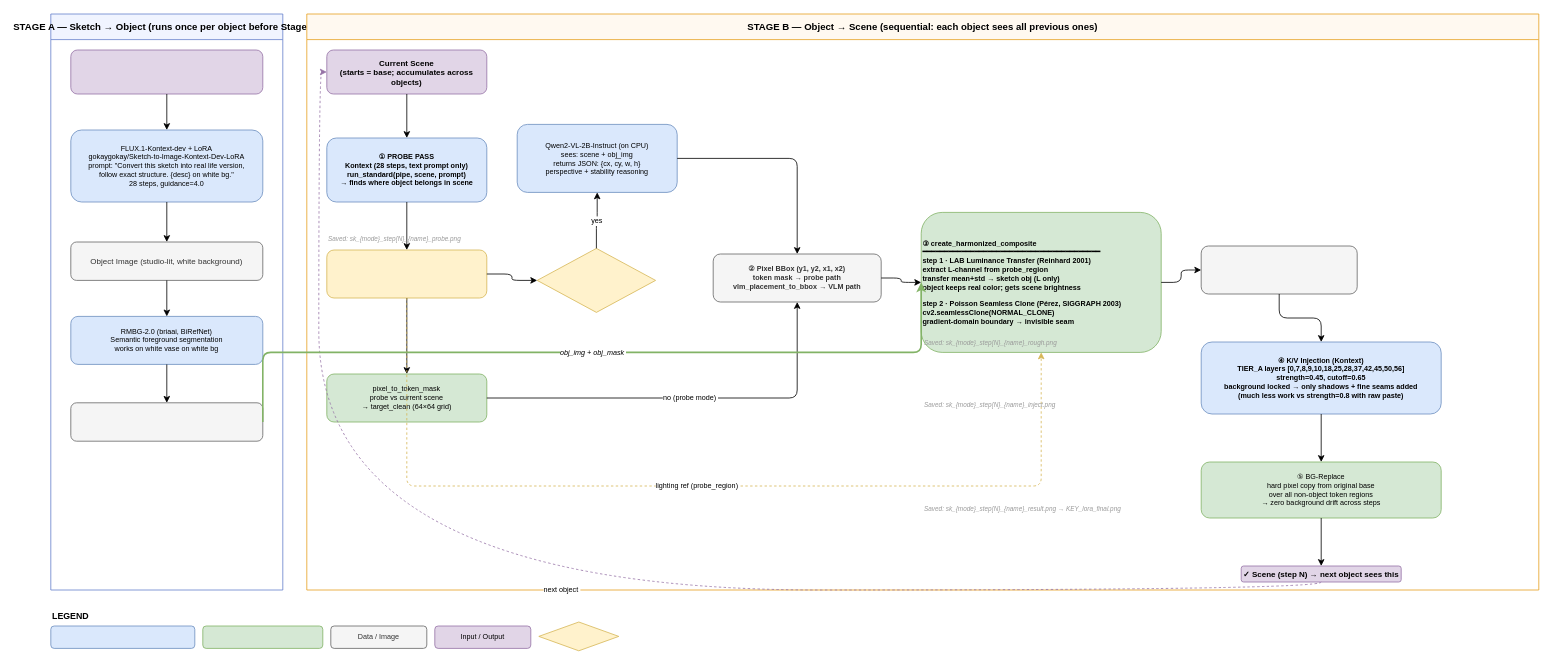
Image size: 1553x665. Some labels were removed from this diagram. Here are the shapes that lost their labels. From the top down, the centre of each, then its label:
At (166,71): "✏ Hand-drawn Sketch {name}.png (bicycle / vase / ball)".
At (406,273): "img_probe correct placement + scene lighting".
At (596,280): "--vlm_model set?".
At (1278,269): "Rough Composite luminance-matched gradient-continuous boundary".
At (166,421): "obj_img + obj_mask (bool H×W)".
At (122,636): "Neural model (FLUX / VLM)".
At (262,636): "Classical algorithm".
At (578,636): "Decision".
